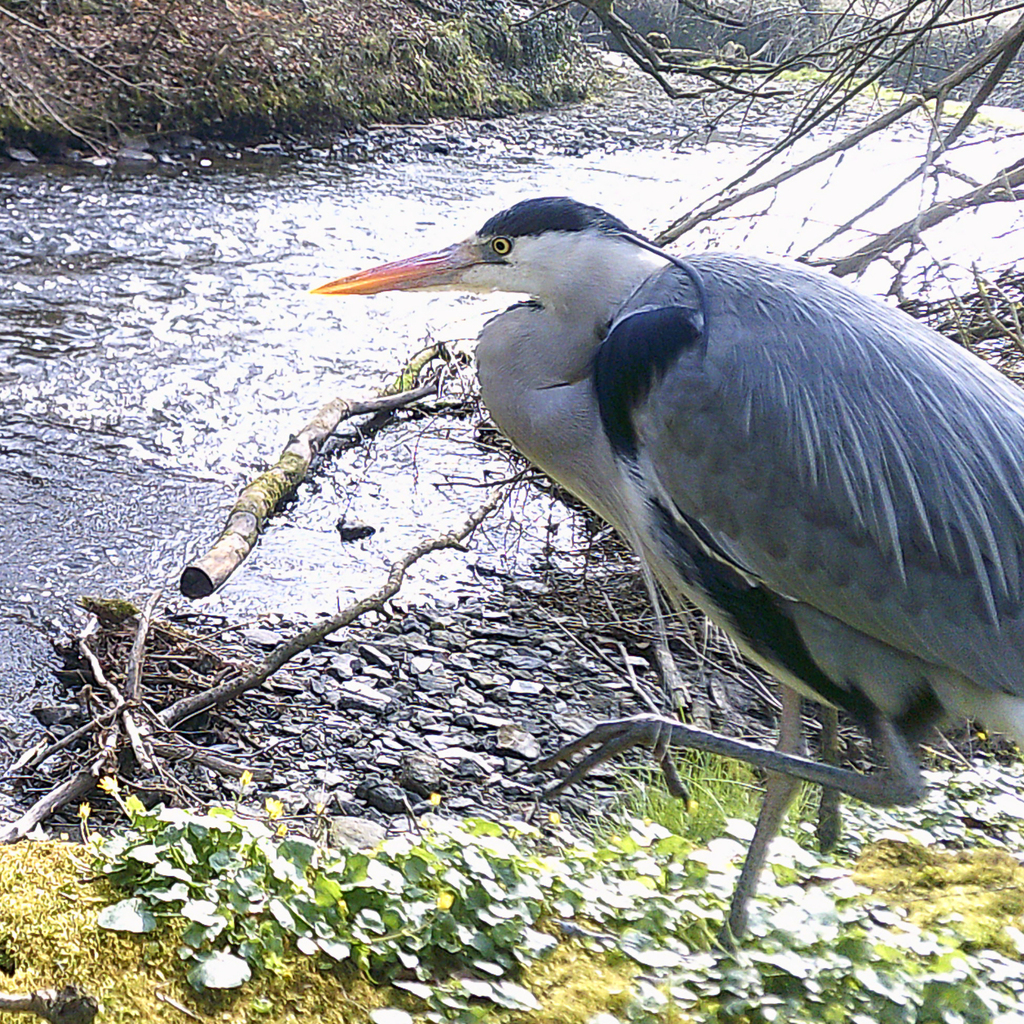heron: (306, 196, 1024, 945)
